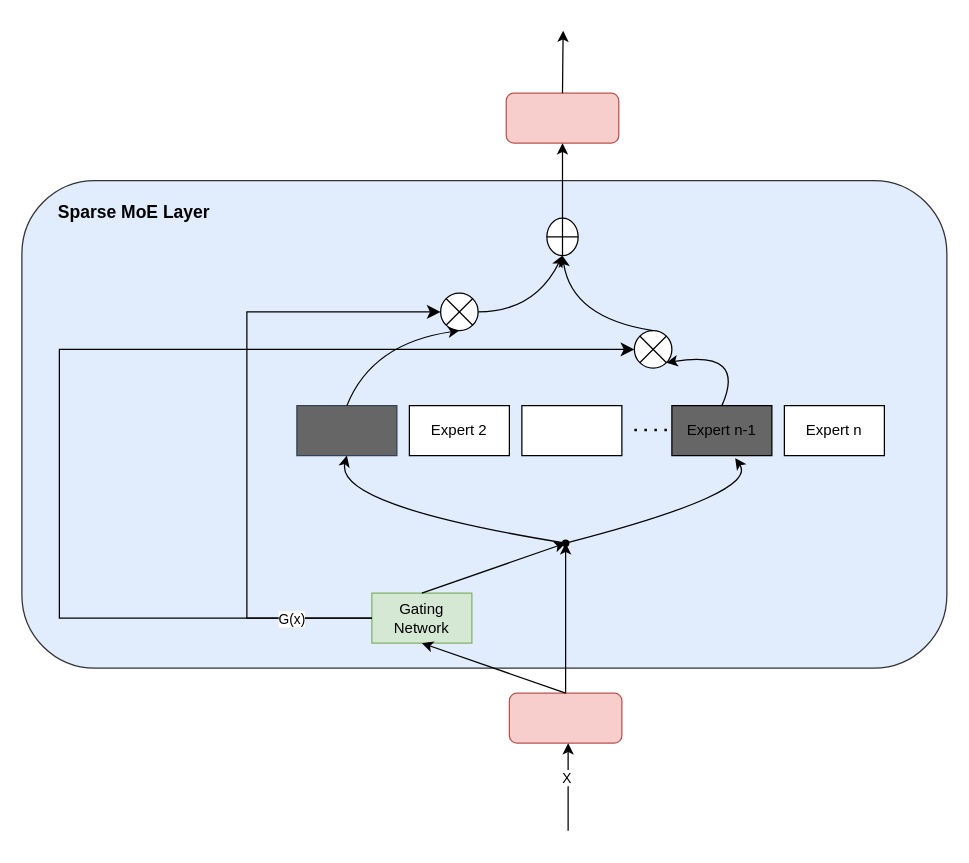
The diagram is 969 pixels wide and 863 high, and some of its shapes have lost their labels. Each missing label, with the centre of its shape:
"Expert 1" goes at [346,430].
"Expert 3" goes at [571,430].
